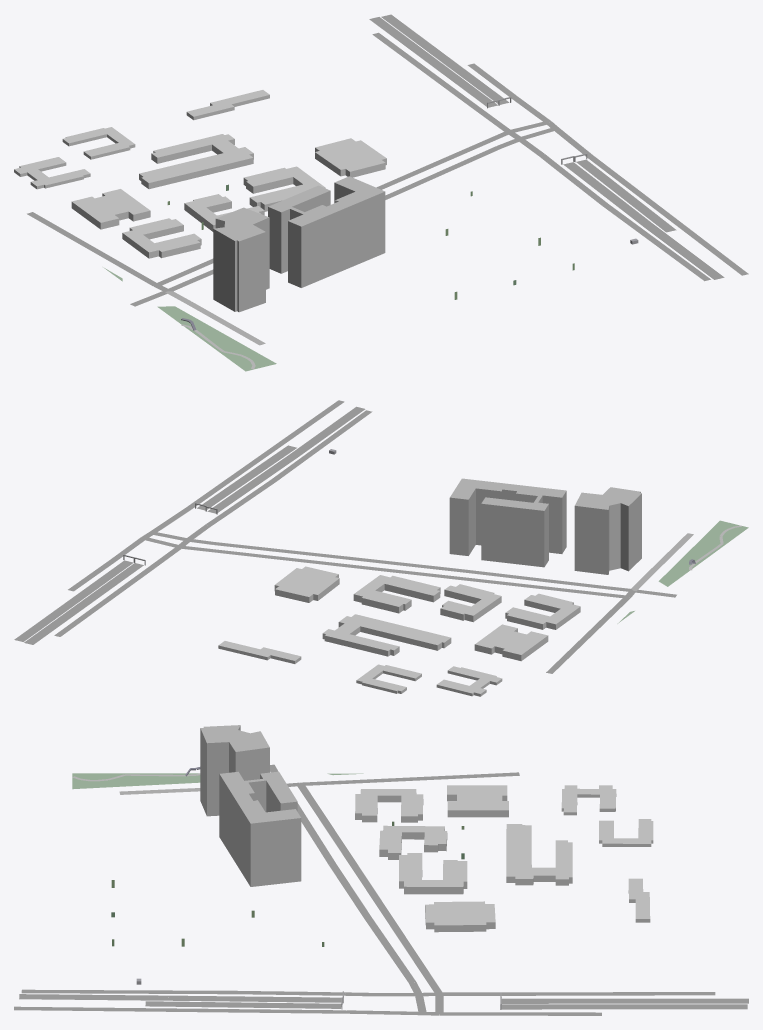
3 views of the same model, one above another, from view 1: azimuth 30°, elevation 25°; view 2: azimuth 150°, elevation 25°; view 3: azimuth 270°, elevation 25° (orthographic). The views are drawn at different scales.
Size of the model in its own units: 514 by 70.09 by 630.
